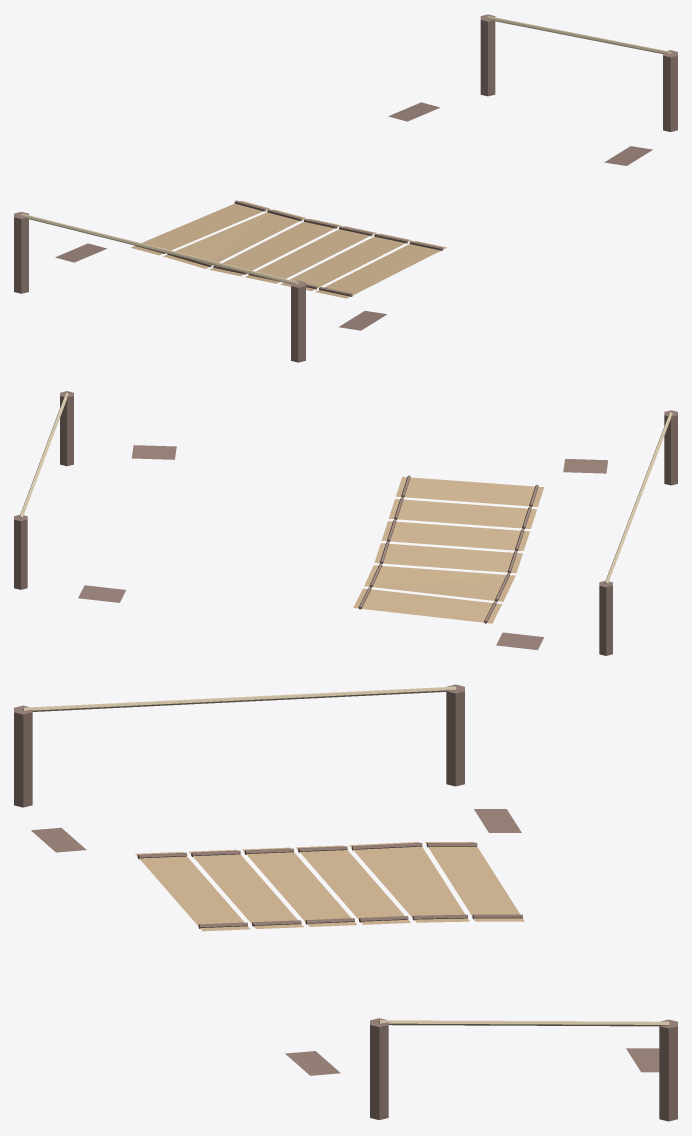
File: puente_roto_2.glb
The picture shows the model from 3 angles, top to bottom: view 1: azimuth 30°, elevation 25°; view 2: azimuth 150°, elevation 25°; view 3: azimuth 270°, elevation 25°; orthographic projection. The views are drawn at different scales.
Parts seen in each view (by area): view 1: puente_roto_2; view 2: puente_roto_2; view 3: puente_roto_2.
Part boxes in pixels (<box>): puente_roto_2: <box>14,14,677,362</box>; puente_roto_2: <box>14,391,677,655</box>; puente_roto_2: <box>14,684,677,1121</box>.
Bounding box in the file's own units: 9.3 × 1.54 × 6.79.
